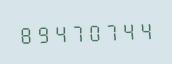eight: (17, 22, 33, 45)
four: (119, 18, 135, 42), (51, 21, 67, 44), (136, 18, 152, 41)
nine: (34, 21, 50, 45)
seven: (68, 20, 84, 44), (102, 19, 118, 42)
zero: (85, 20, 101, 43)
